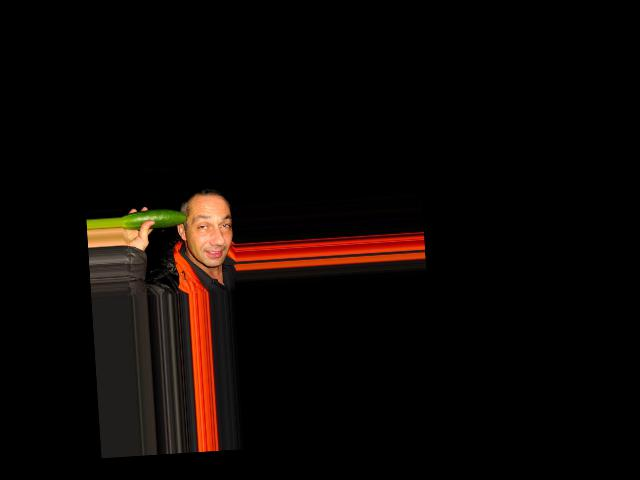cucumber: (121, 207, 188, 230)
